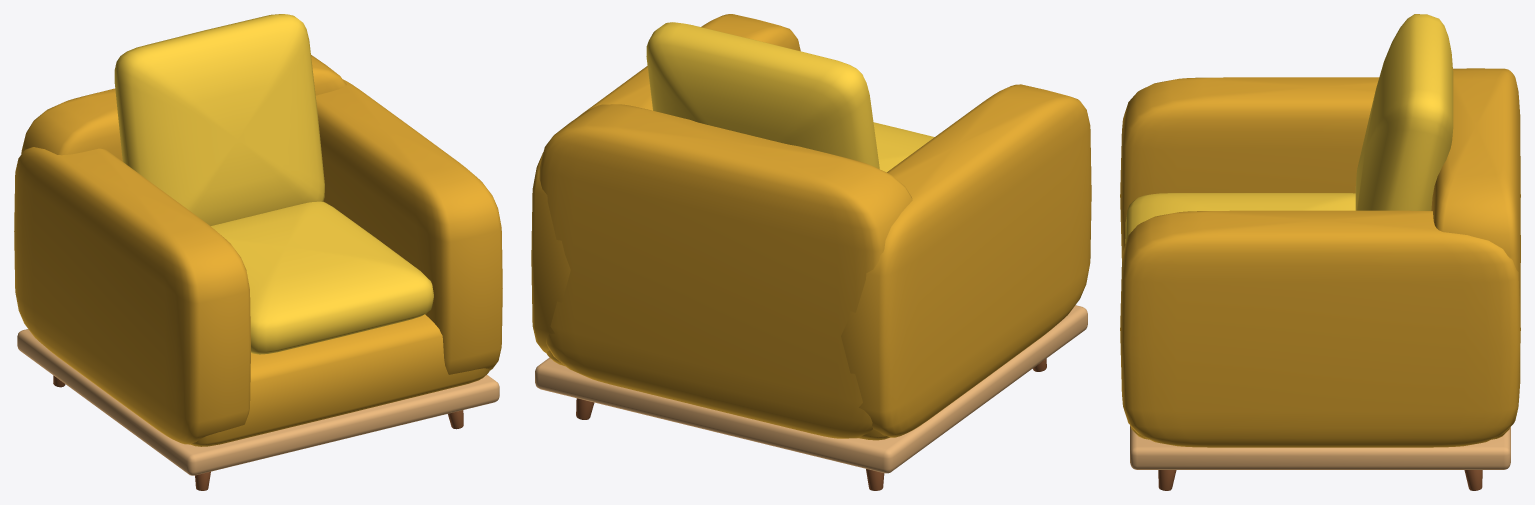
File: poltrona_base_madeira_mostarda.glb
3 renders of one model, left to right at view 1: azimuth 30°, elevation 25°; view 2: azimuth 150°, elevation 25°; view 3: azimuth 270°, elevation 25°, orthographic. The views are drawn at different scales.
Parts seen in each view (by area): view 1: poltrona_base_madeira_mostarda; view 2: poltrona_base_madeira_mostarda; view 3: poltrona_base_madeira_mostarda.
Boxes of the visible parts, bbox=[...] form: poltrona_base_madeira_mostarda: bbox=[14, 14, 502, 490]; poltrona_base_madeira_mostarda: bbox=[531, 14, 1091, 490]; poltrona_base_madeira_mostarda: bbox=[1120, 14, 1520, 490].
Bounding box in the file's own units: 0.8 × 0.8131 × 0.8.
Materials: 1 (1 with a texture image).
